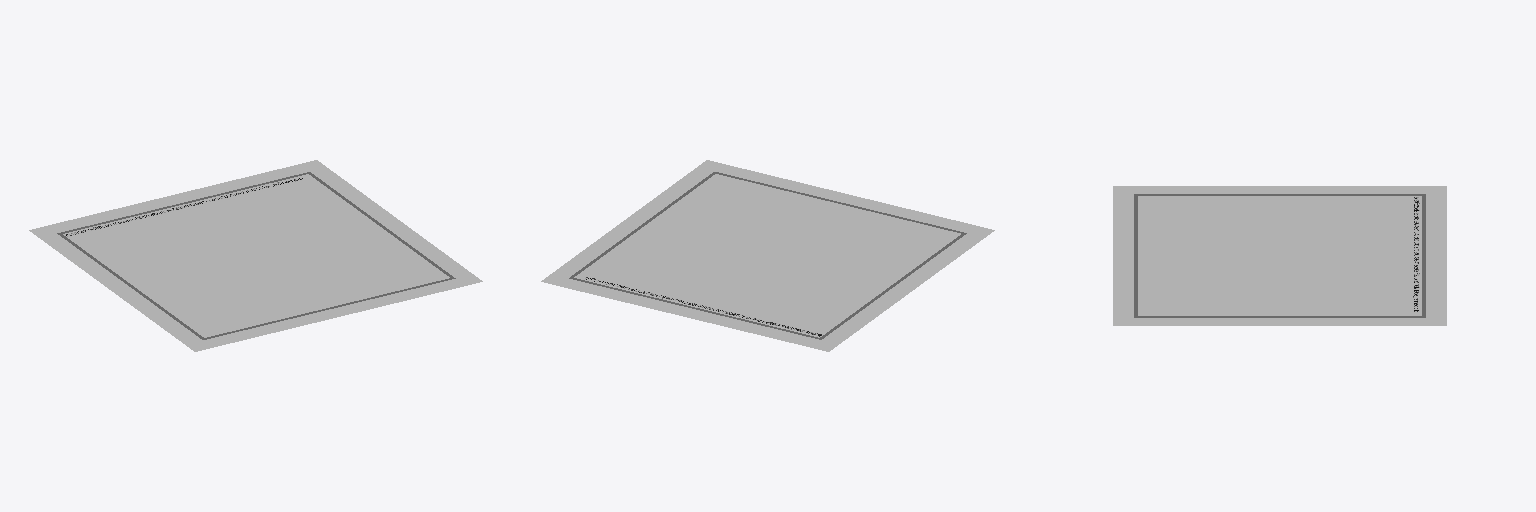
The picture shows the model from 3 angles: view 1: azimuth 30°, elevation 25°; view 2: azimuth 150°, elevation 25°; view 3: azimuth 270°, elevation 25°; orthographic projection.
Size of the model in its own units: 1 by 0 by 1.
1 materials, 1 textured.